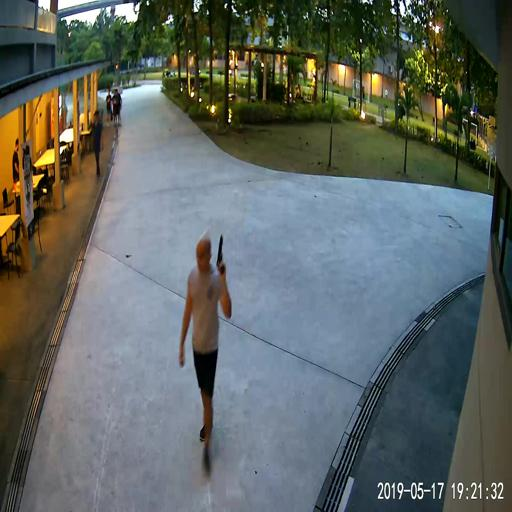pistol: (216, 233, 225, 273)
